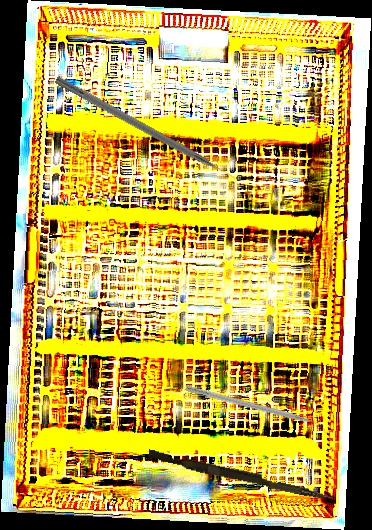Chopper: (183, 385, 330, 437)
Hook Surgical: (53, 74, 243, 187)
Pusher: (146, 449, 336, 502)
